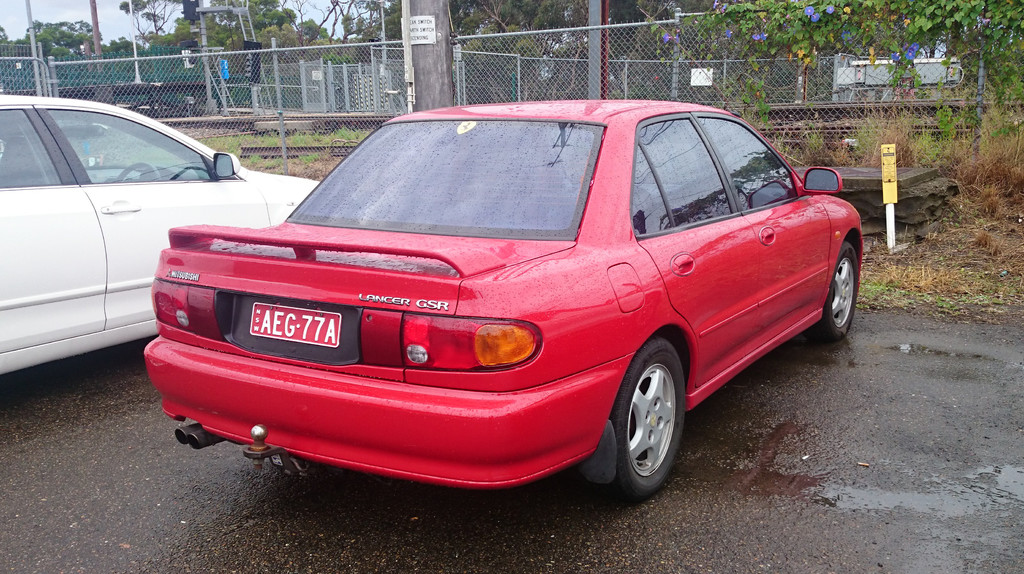license plate: (253, 295, 342, 336)
